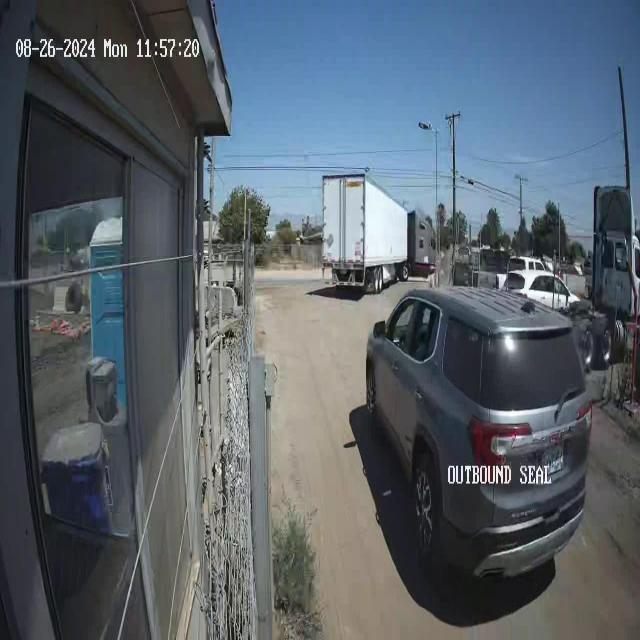TRUCK_OUT: (320, 170, 410, 294)
